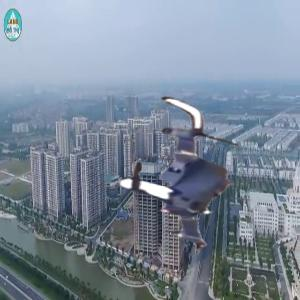drone: (101, 97, 259, 255)
